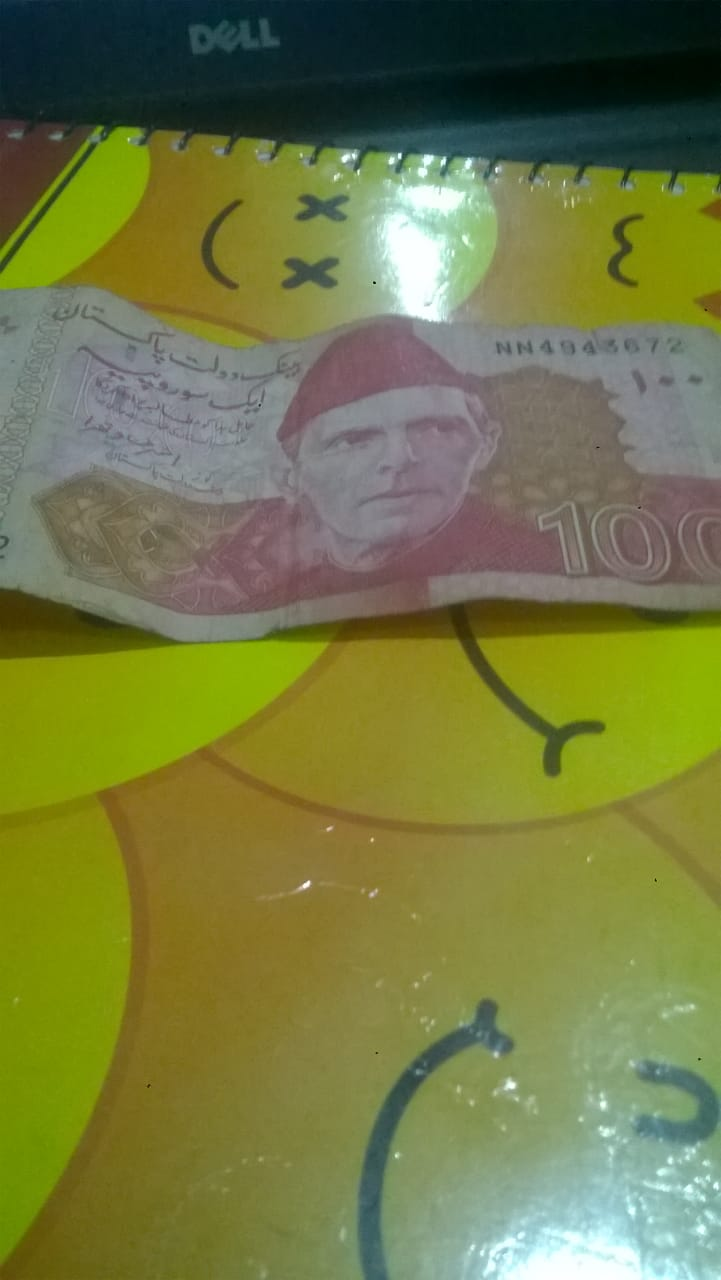100 rupee: (20, 251, 712, 708)
